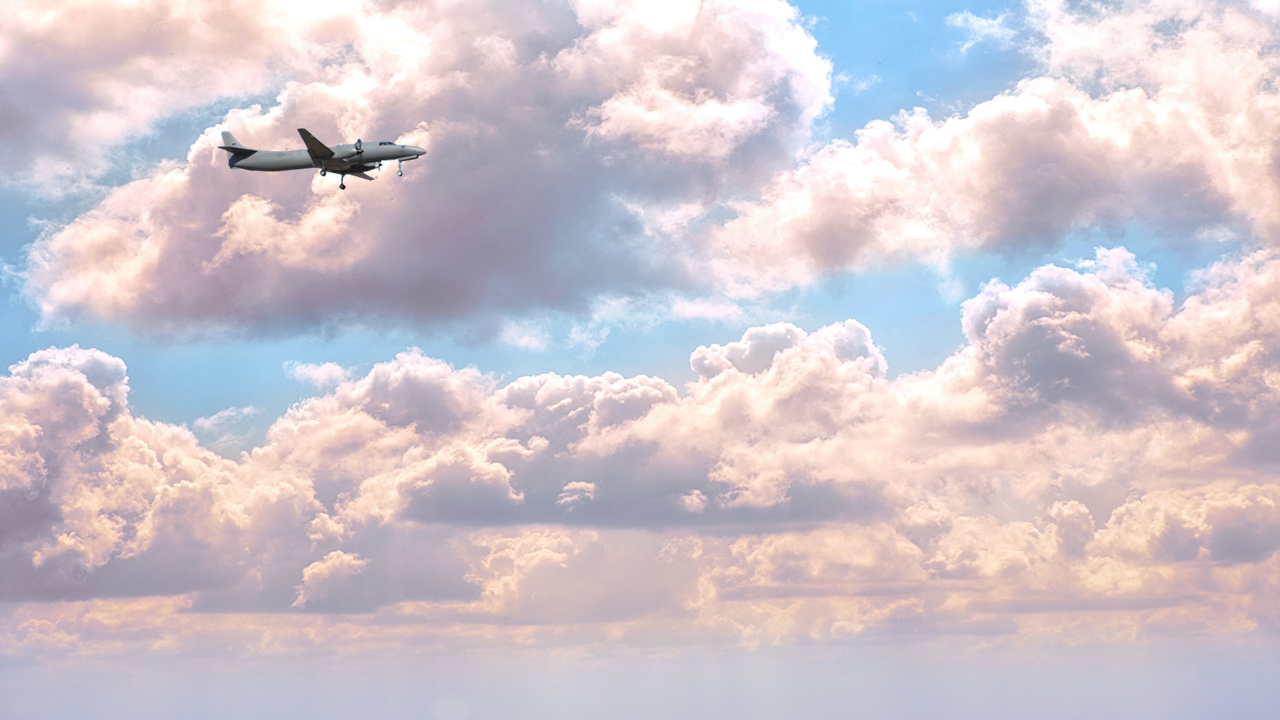military drone: (216, 127, 426, 190)
